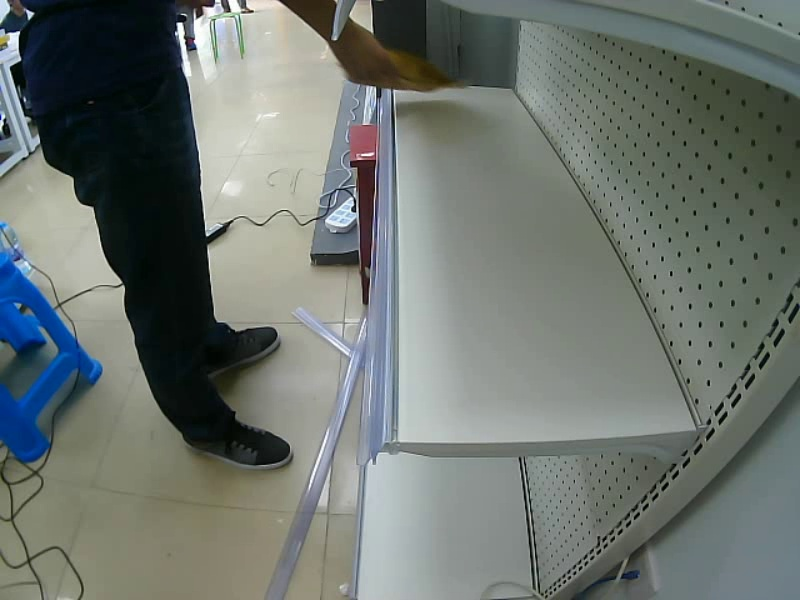bld069: (337, 40, 457, 100)
